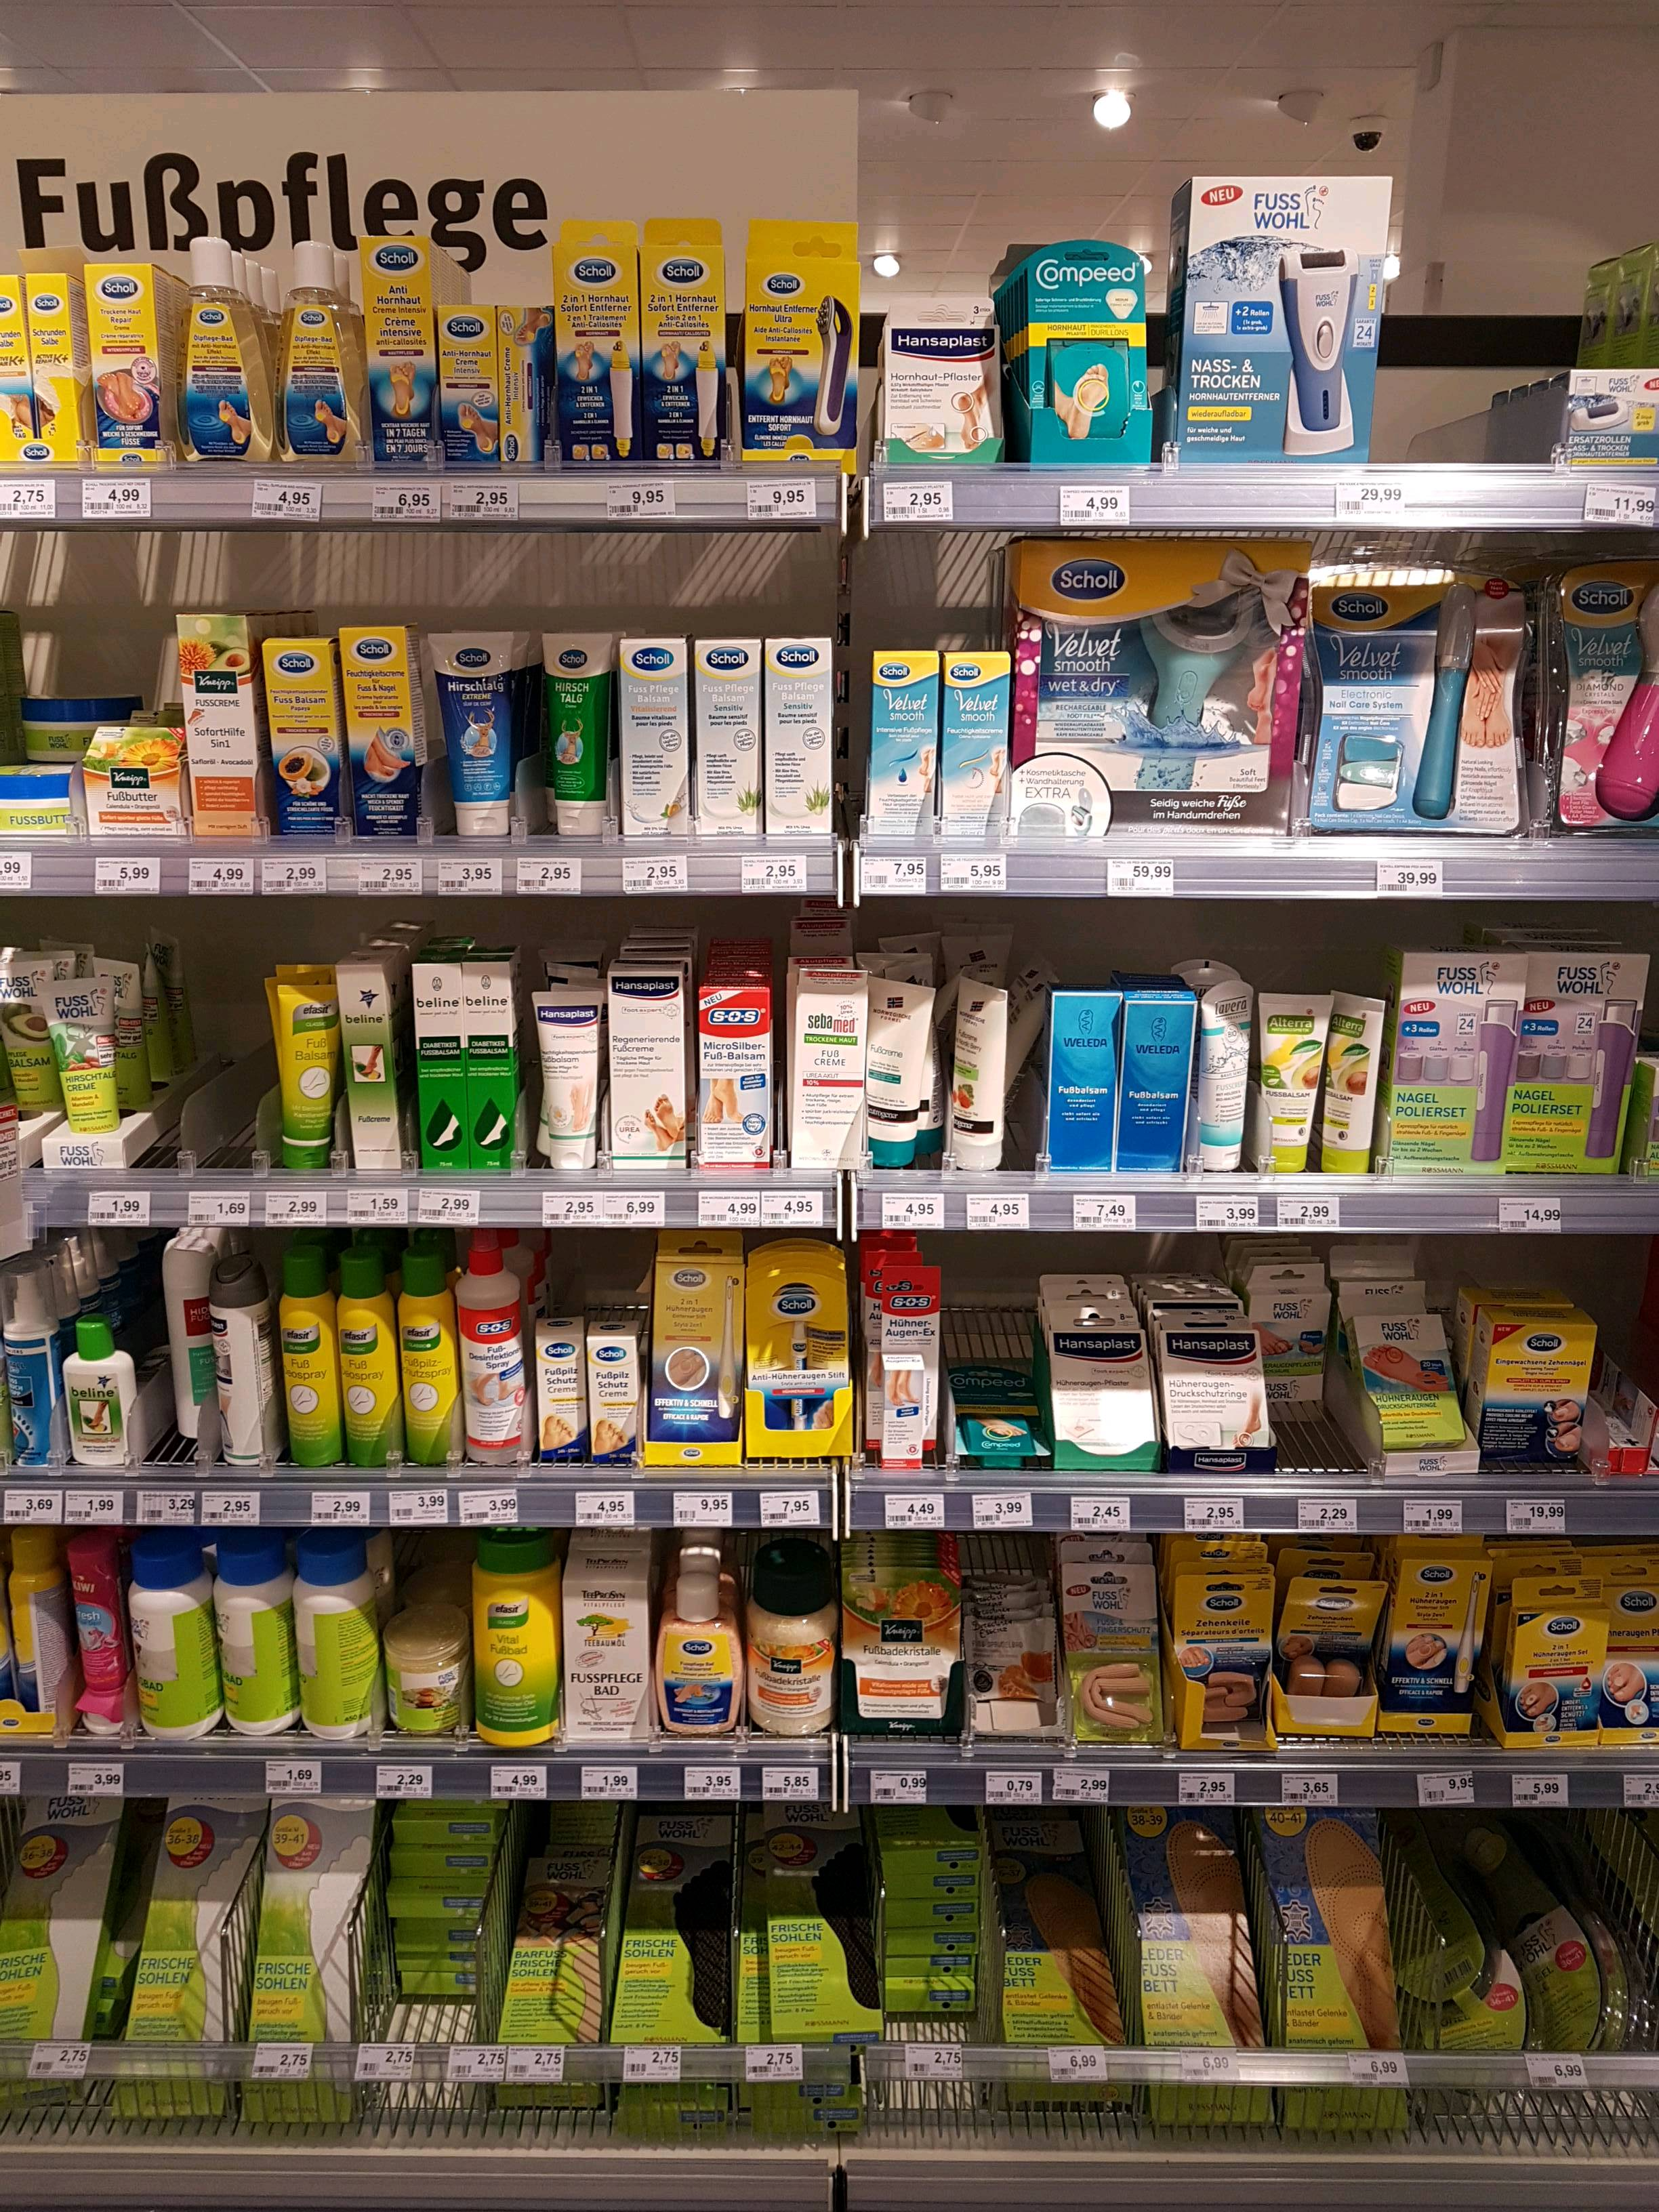Misplacement: (861, 925, 1051, 1176)
